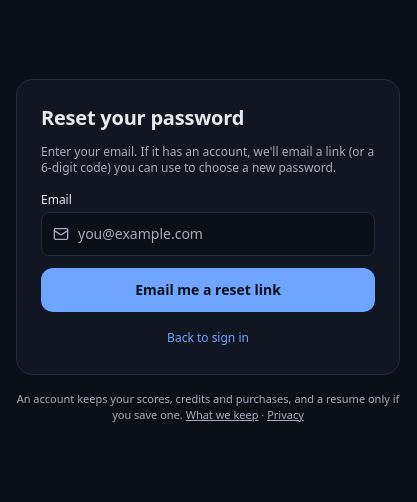
Test case: F. a refused reset has a way out › the reset copy promises a link or a code, never a code alone (the default sender's template carries only a link)
Expected: the heading "Reset your password" is shown, [41,104,244,130]
Expected: the text "we'll email a link (or a 6-digit code) you can use to choose a new password" is shown, [41,142,374,176]
In the field labelled "Email": (208, 234) [41,212,375,256], type "member@example.com"
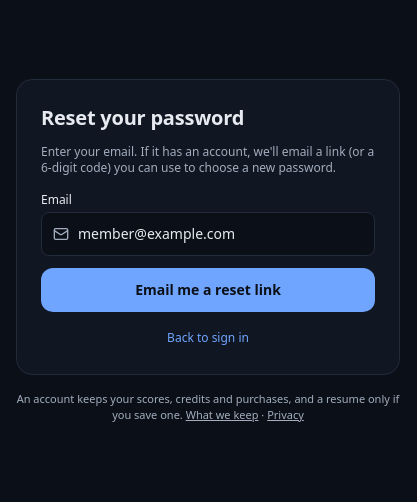
Click the button "Email me a reset link": (208, 290) [41,268,375,312]
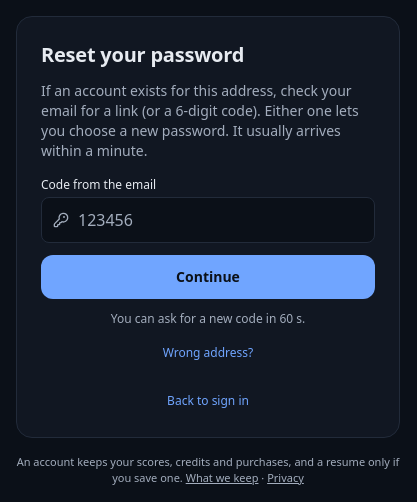
Expected: the text "If an account exists for this address, check your email for a link (or a 6-digit code). Either one lets you choose a " is shown, [41,80,359,160]
